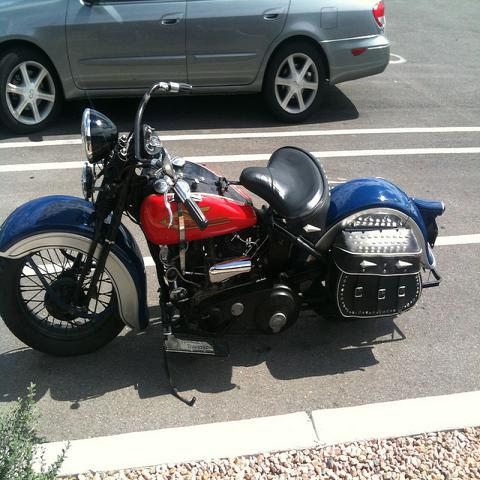car: (1, 1, 393, 122)
motorcycle: (0, 82, 440, 358)
